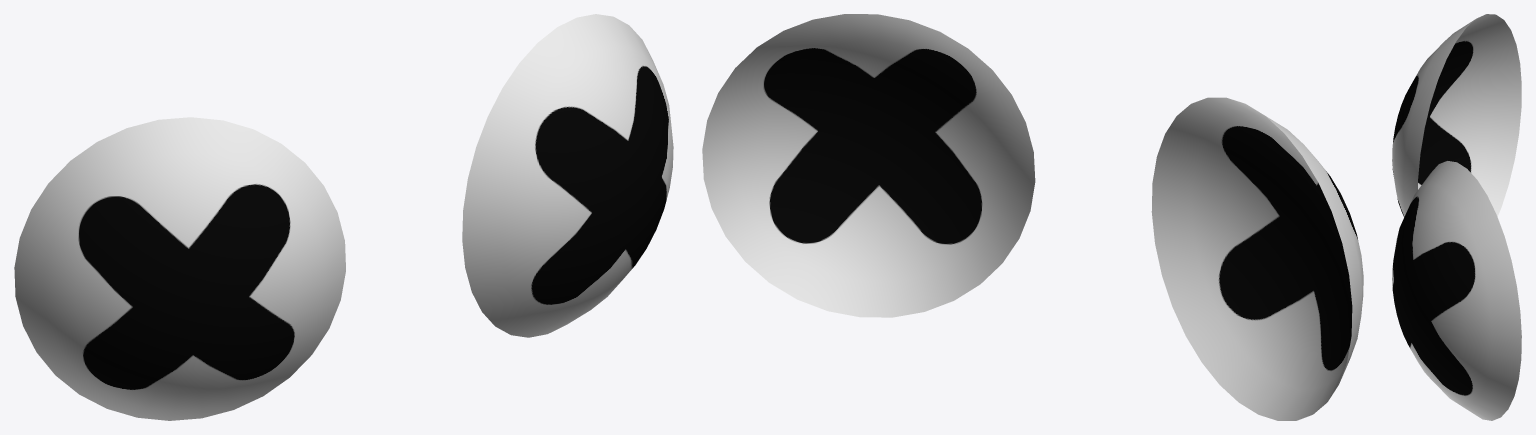
File: Eyes_4.fbx
3 views of the same model, side by side, from view 1: azimuth 30°, elevation 25°; view 2: azimuth 150°, elevation 25°; view 3: azimuth 270°, elevation 25° (orthographic). The views are drawn at different scales.
Visible parts, largest first — view 1: Eyes_4; view 2: Eyes_4; view 3: Eyes_4.
Boxes of the visible parts, x1=… form: Eyes_4: x1=14, y1=14, x2=673, y2=420; Eyes_4: x1=702, y1=14, x2=1363, y2=420; Eyes_4: x1=1392, y1=14, x2=1521, y2=420.
Bounding box in the file's own units: 34.83 × 15.56 × 7.66.
